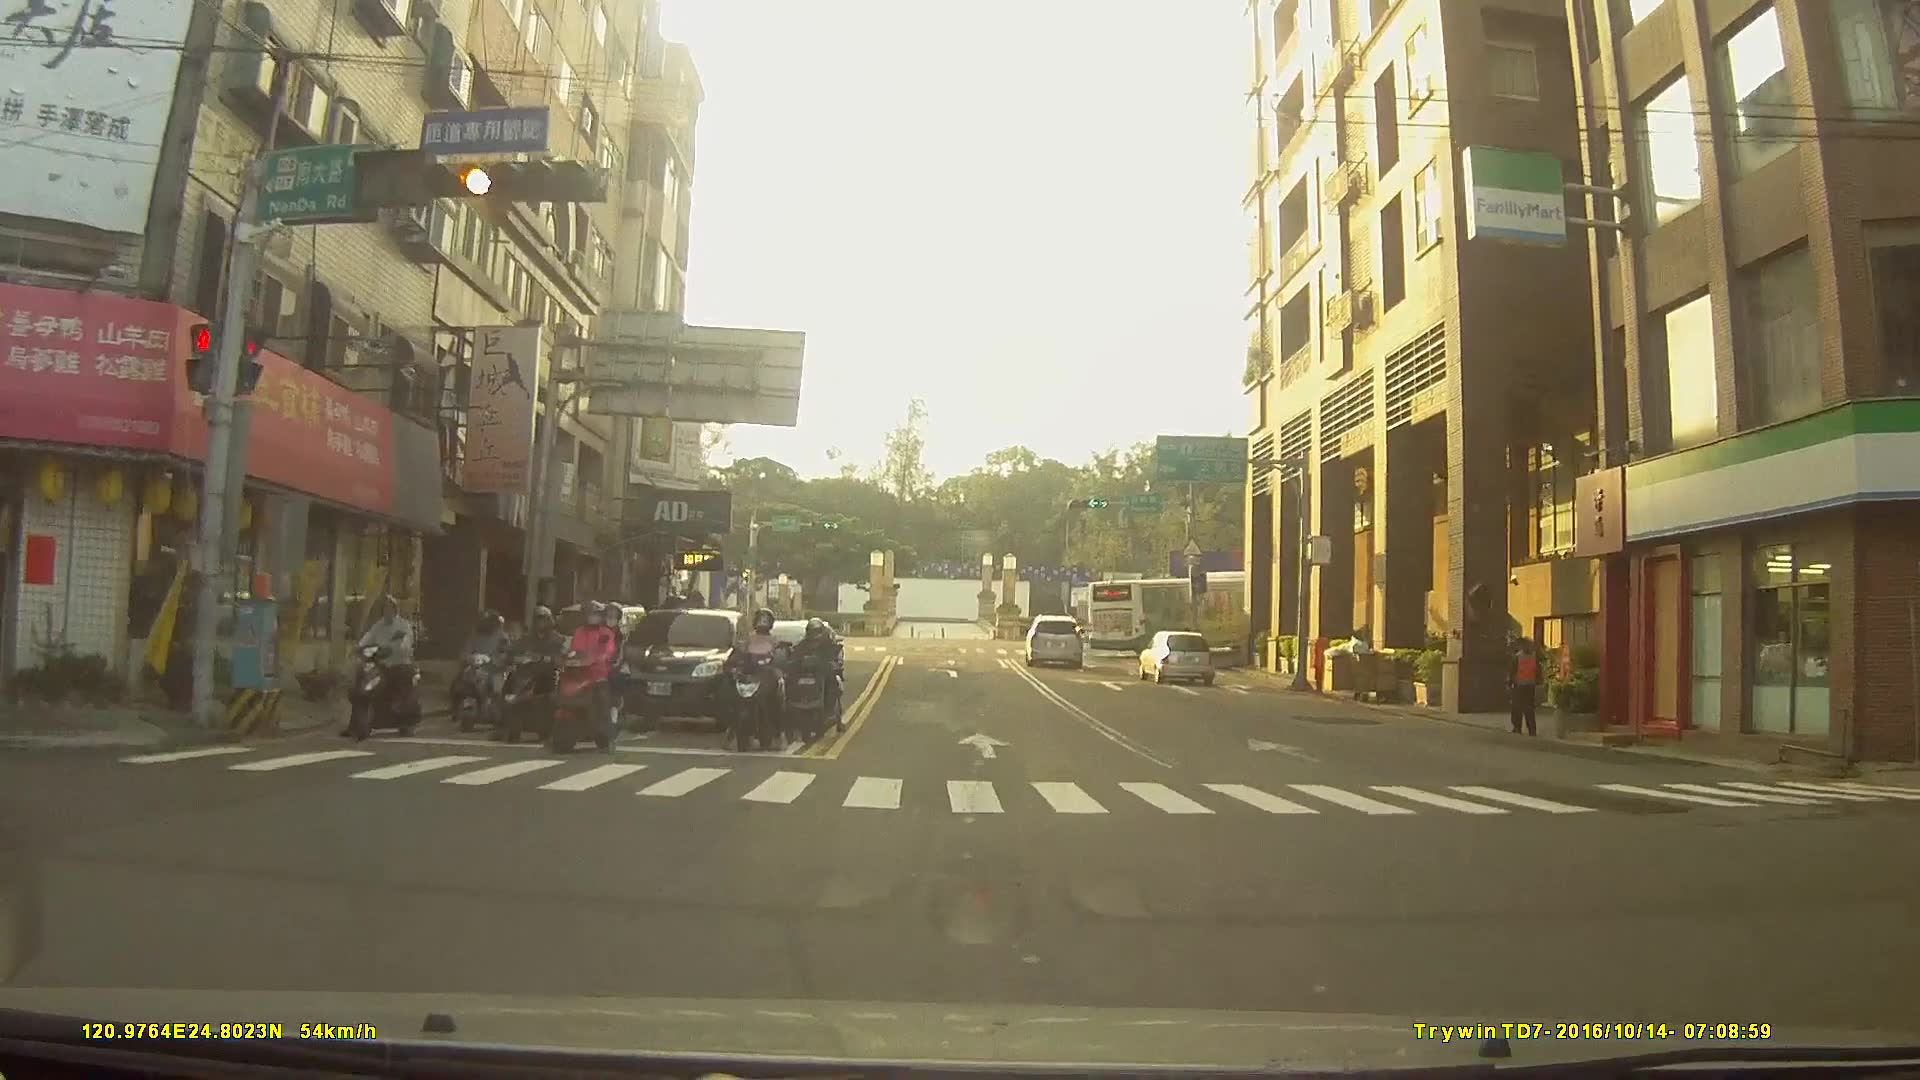pedestrian: (1500, 638, 1551, 744)
rider: (542, 597, 630, 756), (348, 595, 425, 741), (494, 597, 569, 741), (728, 609, 794, 749), (453, 606, 517, 730), (779, 618, 841, 744)
vehicle: (604, 603, 755, 727), (1086, 566, 1287, 659), (1136, 629, 1216, 685), (1022, 612, 1083, 666)
